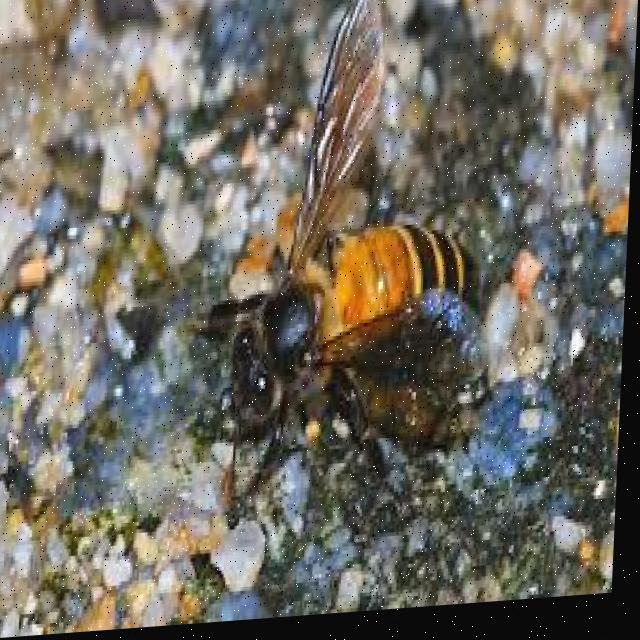Apis-mellifera-scutellata: (196, 0, 514, 527)
